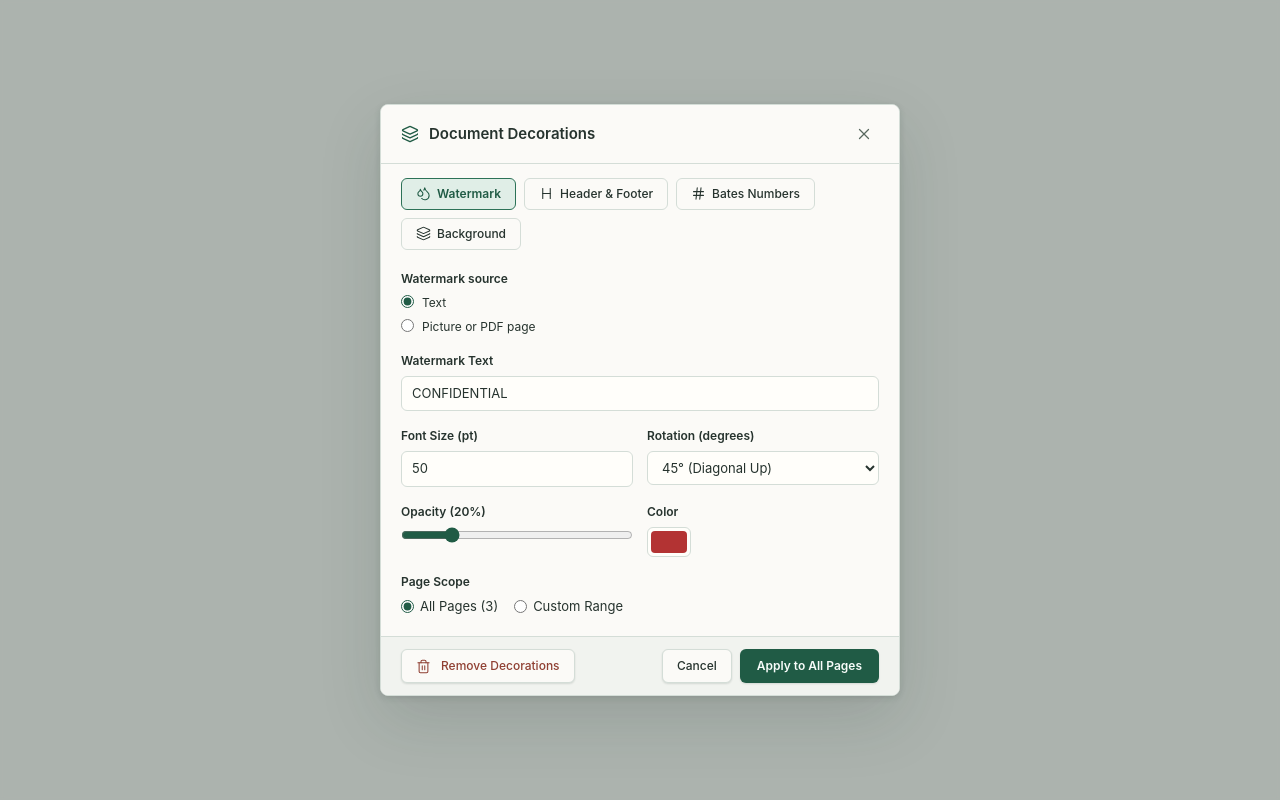
DecorationsDialog and decoration commands › DecorationsDialog UI › labels the apply action with the selected page count
Click the text "Custom Range". click: x=569, y=607
box: [514,597,623,616]
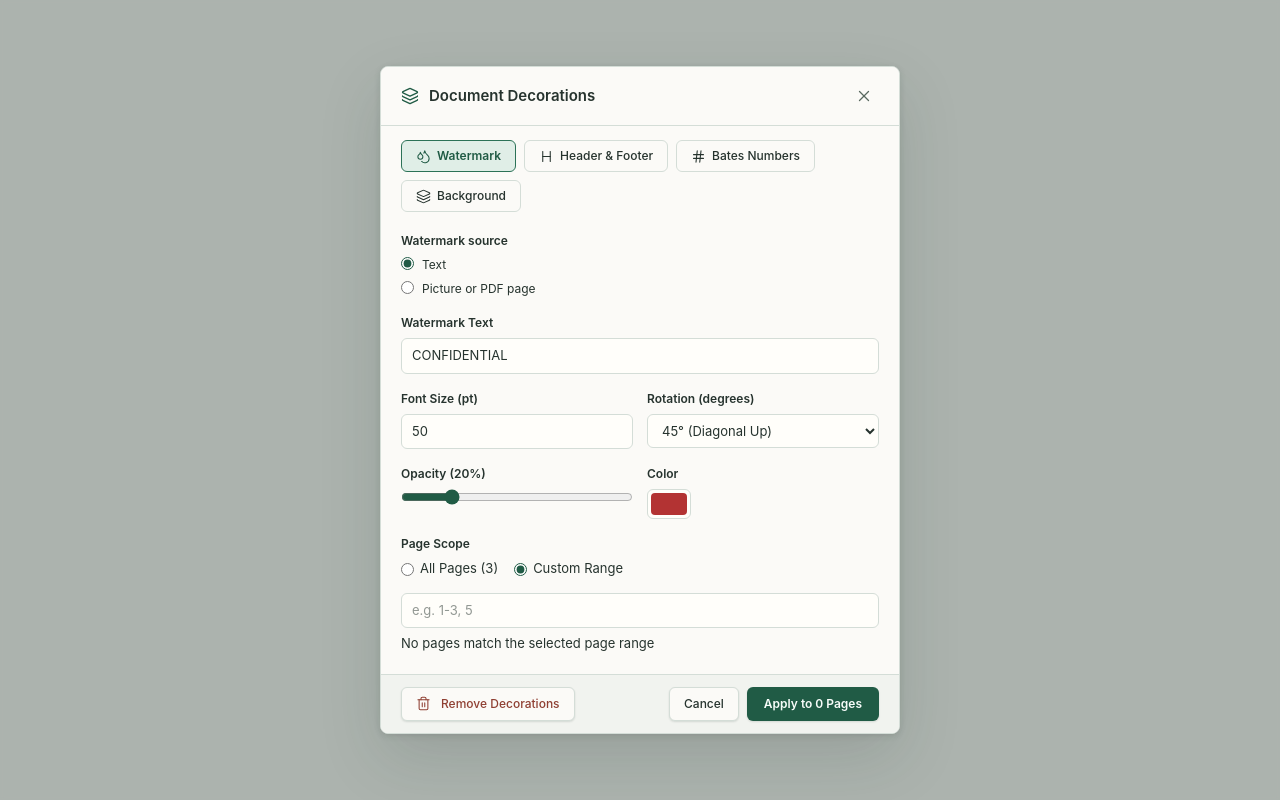
Type "1-3" into the field with placeholder "e.g. 1-3, 5". click: x=640, y=611
box: [401,593,879,628]
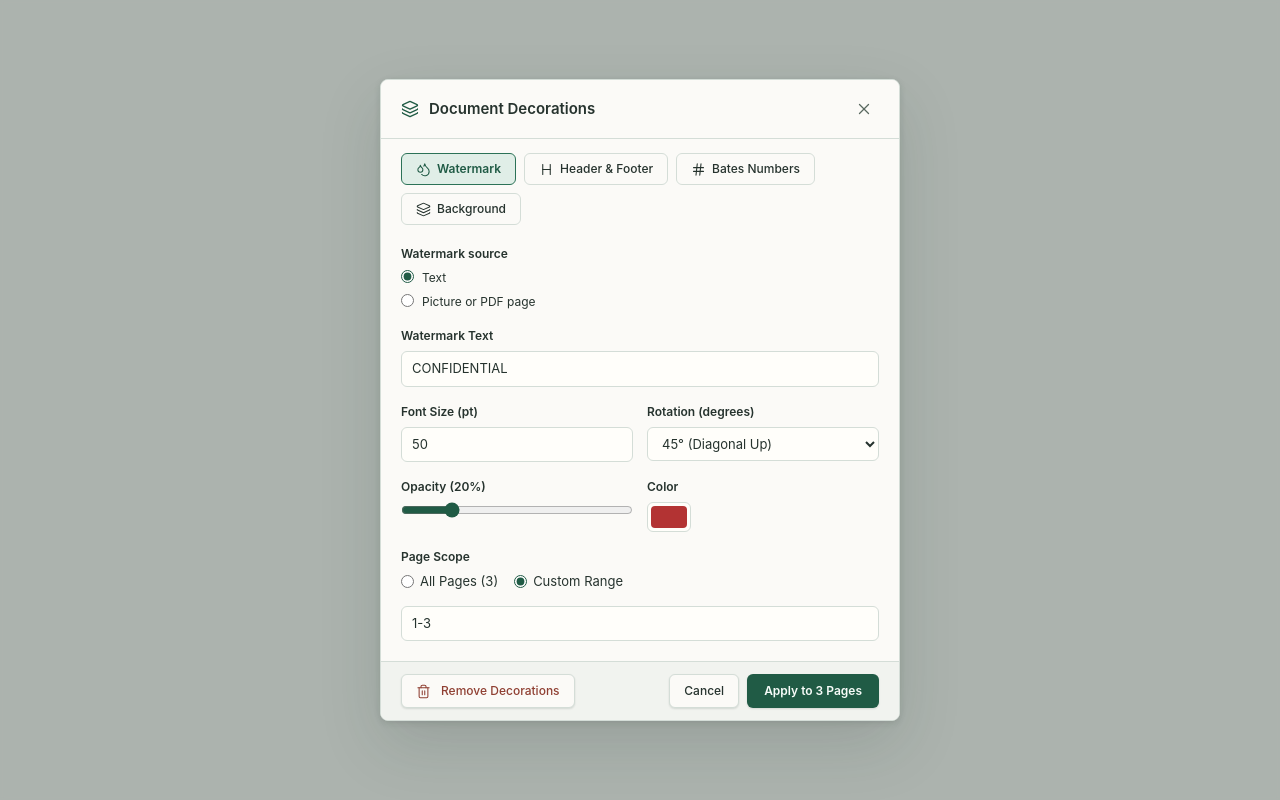
Expected: the button "Apply to 3 Pages" is shown, [747,674,879,708]
